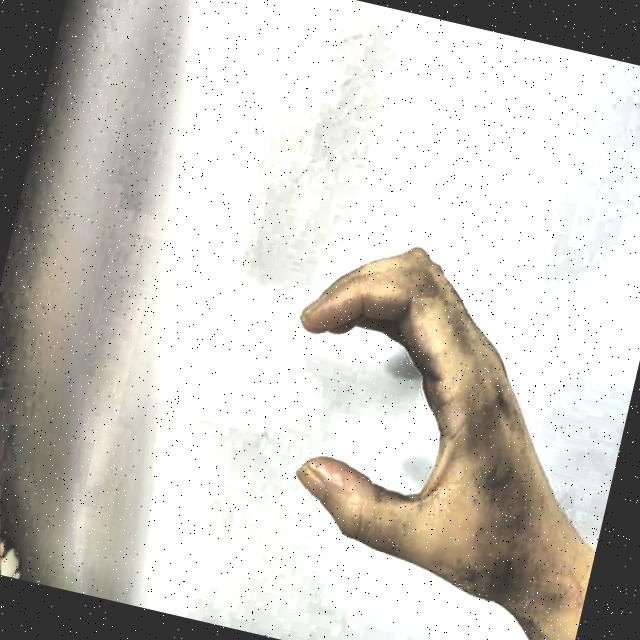A: (222, 168, 592, 630)
